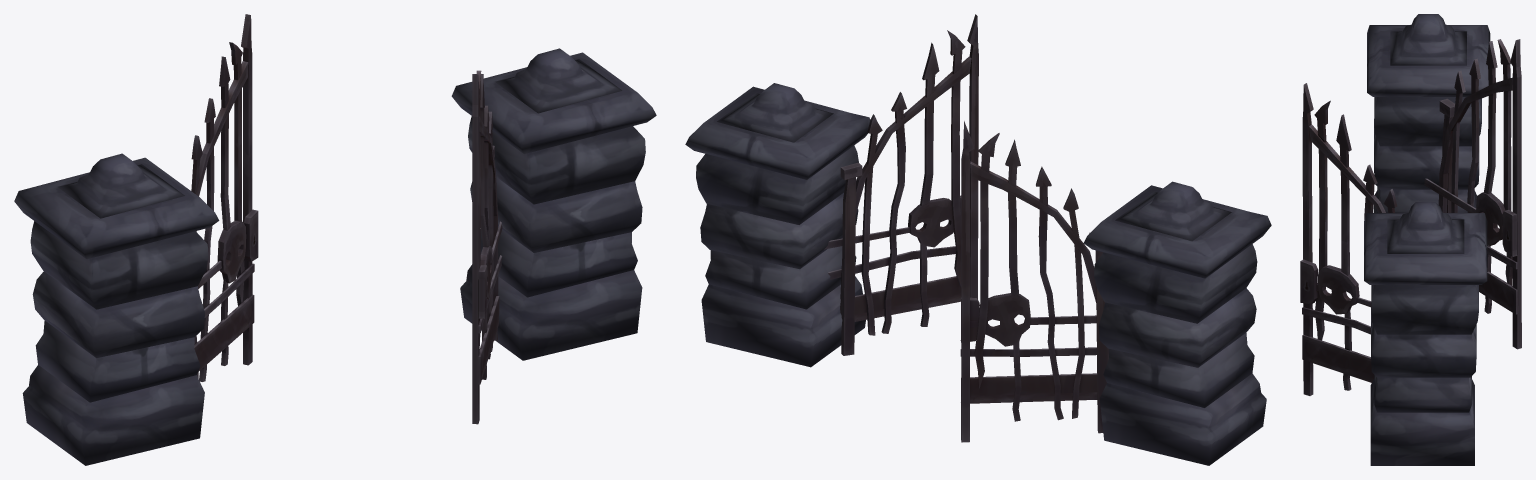
The model's file is fance_gate_01.fbx.
3 views of the same model, side by side, from view 1: azimuth 30°, elevation 25°; view 2: azimuth 150°, elevation 25°; view 3: azimuth 270°, elevation 25° (orthographic). The views are drawn at different scales.
Parts seen in each view (by area): view 1: fance_gate_01; view 2: fance_gate_01; view 3: fance_gate_01.
Boxes of the visible parts, x1,y1,x2,y2 form: fance_gate_01: [14, 14, 656, 465]; fance_gate_01: [685, 14, 1271, 465]; fance_gate_01: [1300, 14, 1521, 465].
Size of the model in its own units: 542 by 318 by 206.
